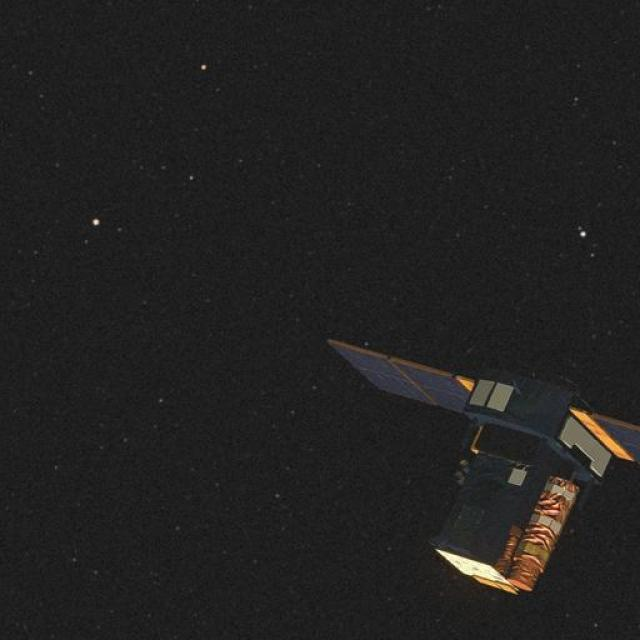soho: (333, 376, 640, 618)
